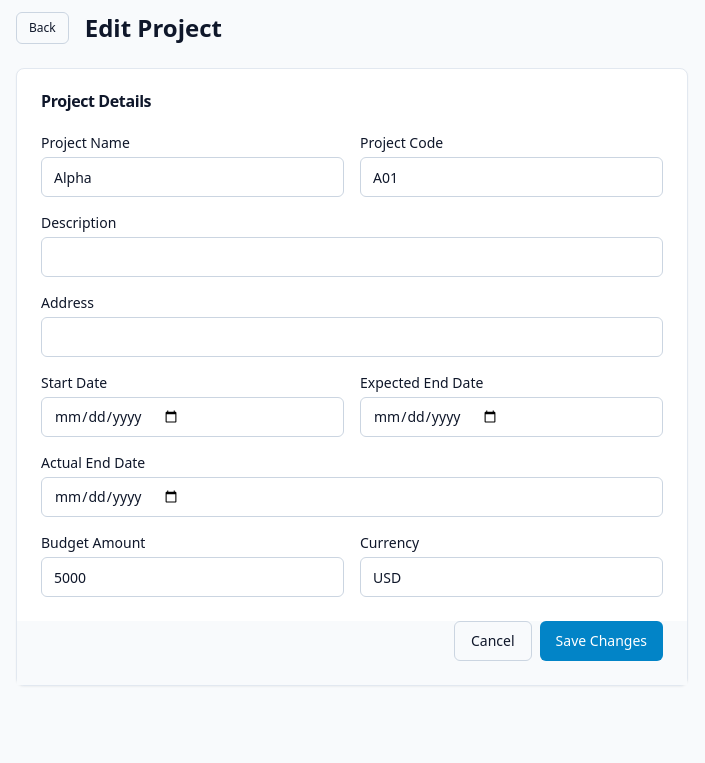
Scenario: Projects Web Module › Edit Project Page › rejects overflowing budget without mutating payload to null
The image size is (705, 763).
Replace the text in the field labelled "Budget Amount" with "99999999999999999": coordinates (192, 577) [41,557,344,597]
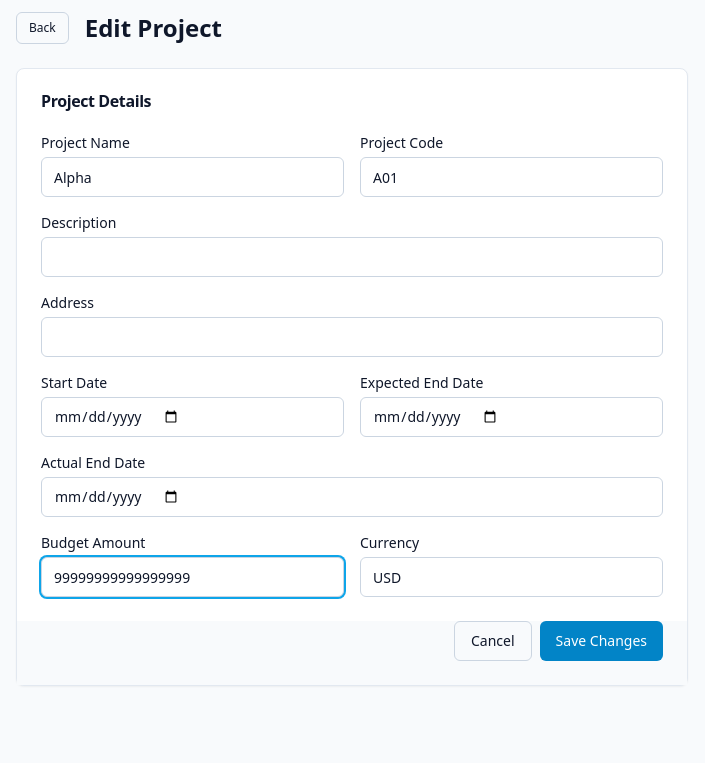
Click the button "Save Changes": coordinates (601, 641) [540,621,663,661]
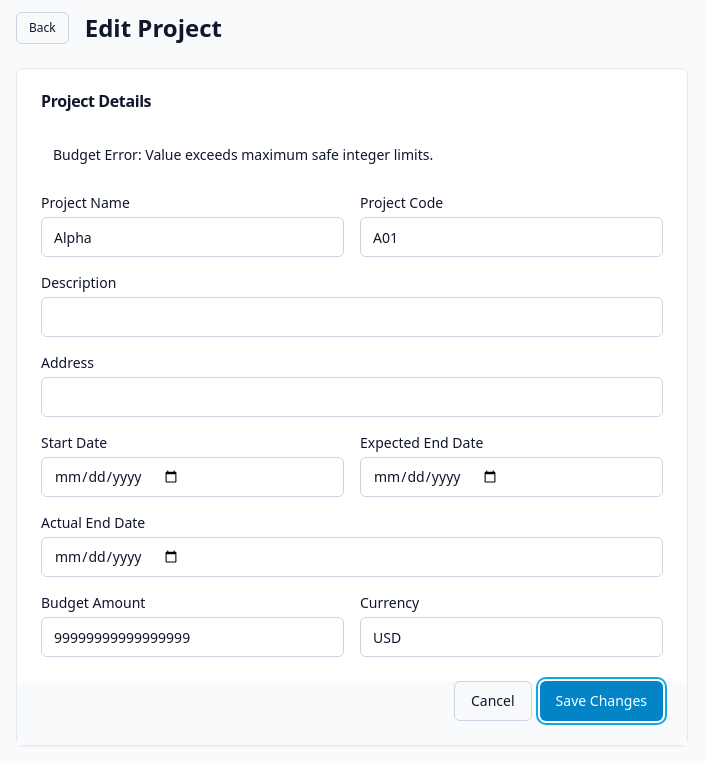
Expected: the text "Budget Error: Value exceeds maximum safe integer limits." is shown, [53,145,433,164]
